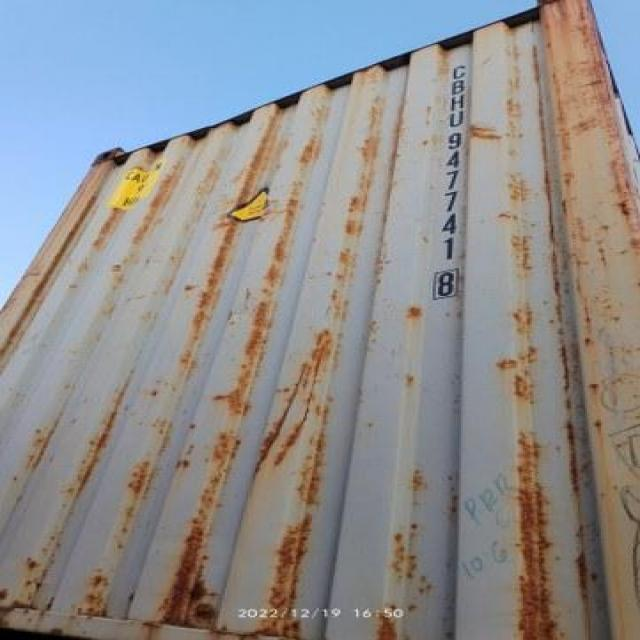rust: (556, 13, 629, 175), (273, 121, 327, 331), (503, 484, 570, 603), (179, 541, 238, 637), (269, 507, 306, 630), (244, 372, 320, 422), (205, 225, 222, 329), (356, 165, 378, 242)
